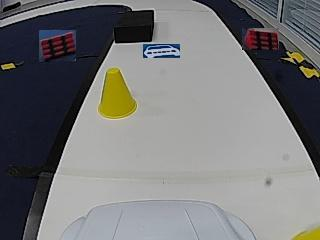block: (114, 9, 154, 43)
cone: (99, 68, 138, 119)
